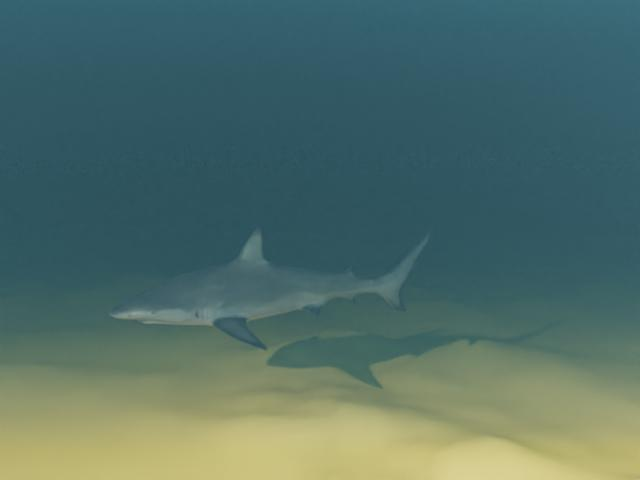Carribean Shark.001: (108, 226, 435, 350)
